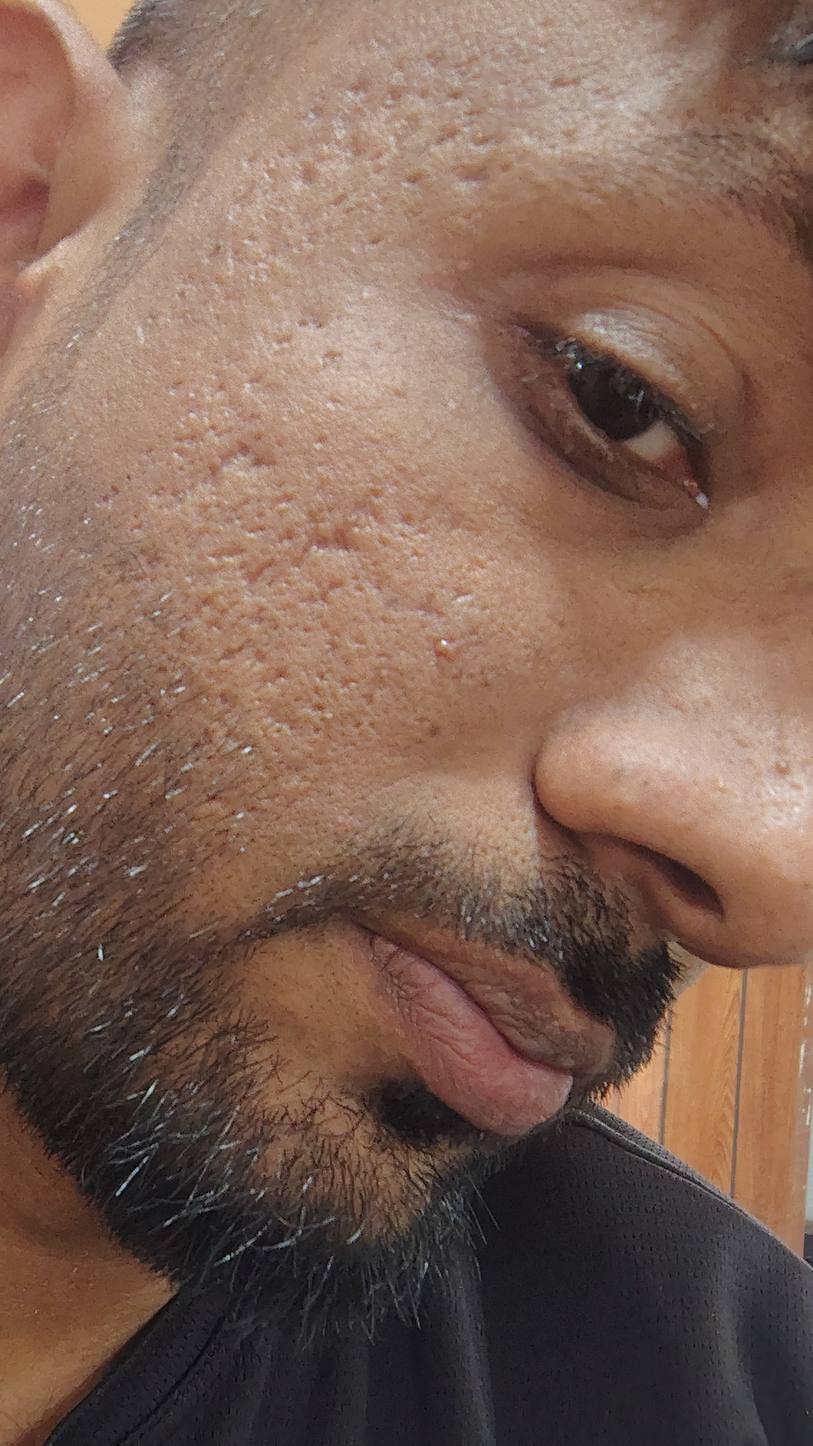pustule: (416, 618, 495, 694)
